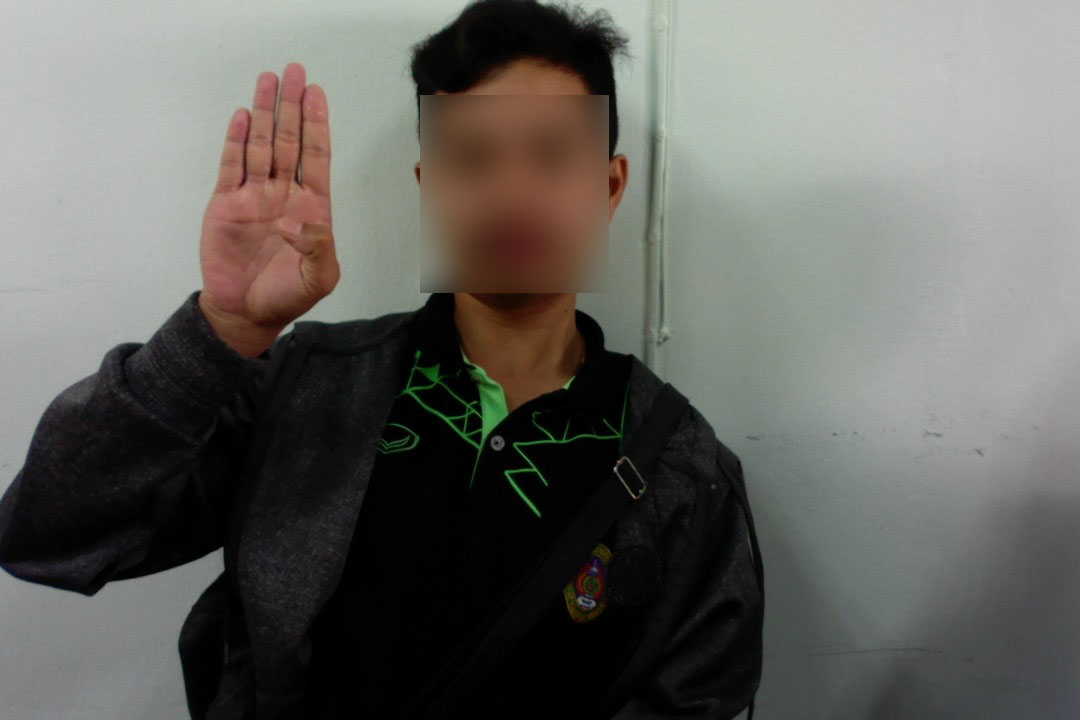bor: (194, 53, 345, 334)
